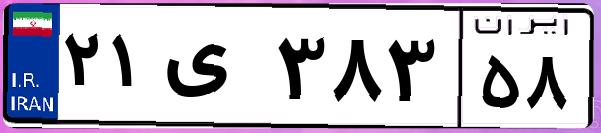1: (110, 28, 158, 98)
2: (57, 26, 110, 100)
3: (270, 28, 330, 110), (385, 28, 445, 110)
5: (475, 38, 525, 113)
8: (330, 28, 385, 110), (525, 38, 570, 115)
ی: (158, 20, 270, 120)
